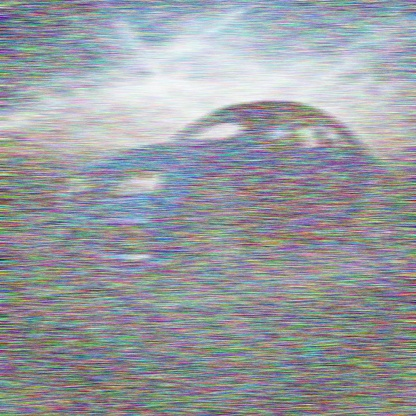Vehicle: (57, 94, 391, 295)
